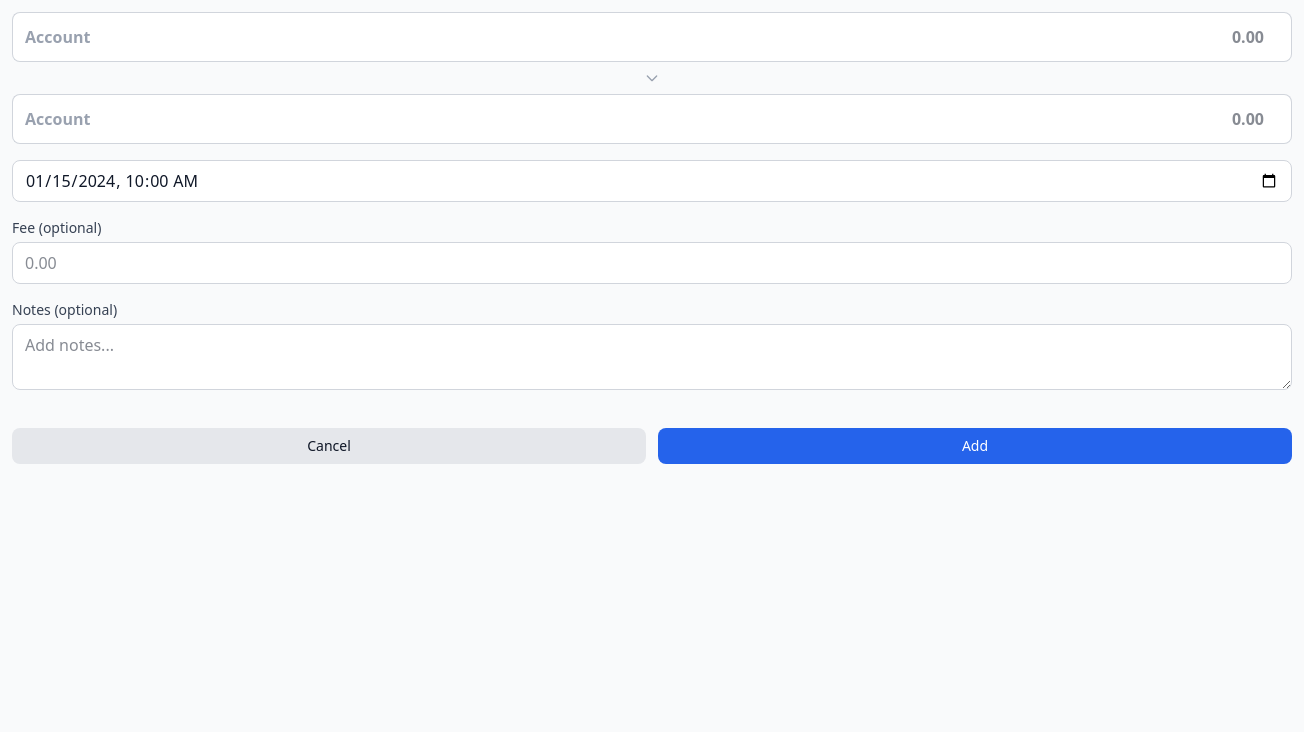
Scenario: ExchangeTransactionForm › shows validation errors for missing account
The image size is (1304, 732).
Type "100" into the number field with id "amount" at x=972, y=37, box [652, 12, 1292, 62]
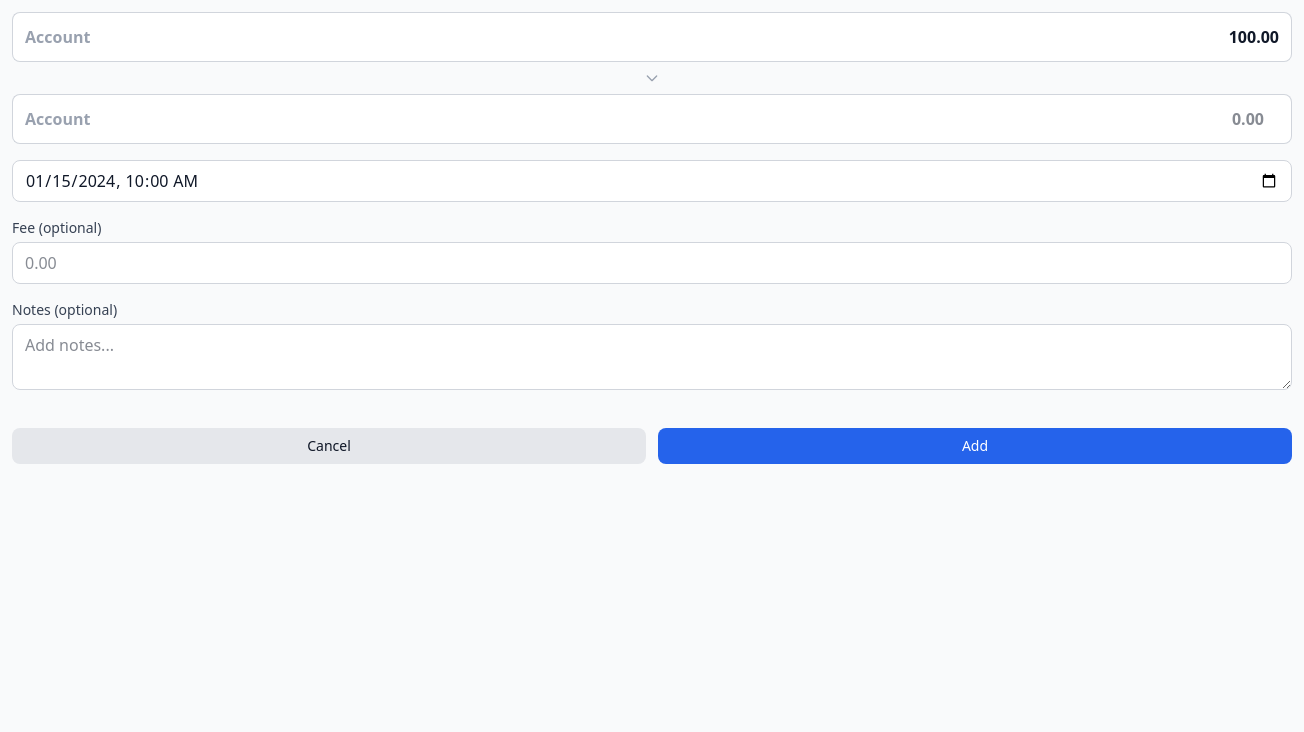
Click the button "Add" at x=975, y=446, box [658, 428, 1292, 464]
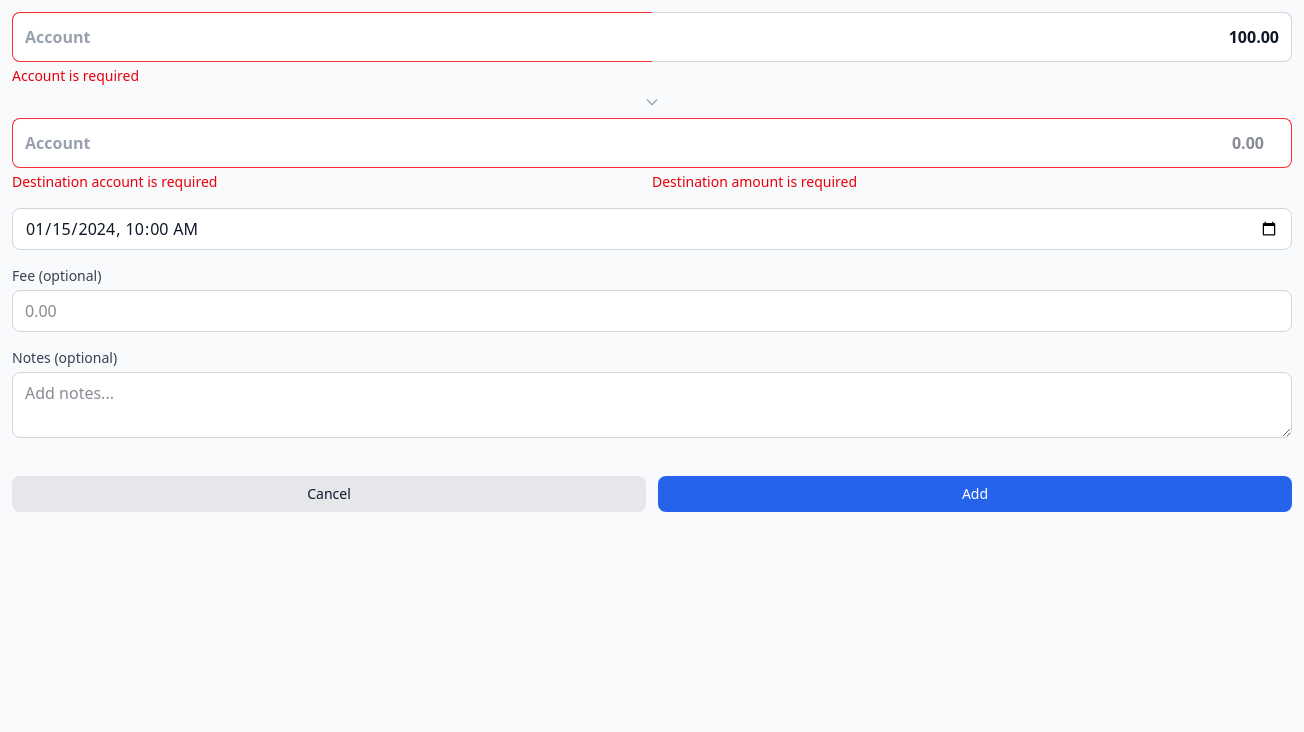
Expected: the text "Account is required" is shown, [12, 66, 139, 85]
